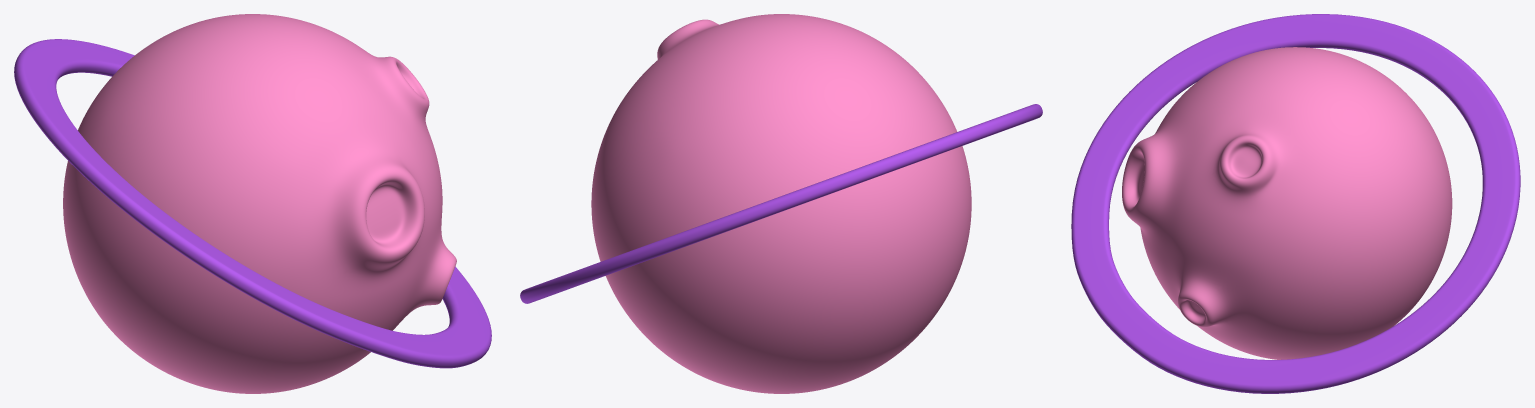
File: planet-5.glb
3 renders of one model, left to right at view 1: azimuth 30°, elevation 25°; view 2: azimuth 150°, elevation 25°; view 3: azimuth 270°, elevation 25°, orthographic. The views are drawn at different scales.
Parts seen in each view (by area): view 1: Roundcube, Roundcube.001; view 2: Roundcube, Roundcube.001; view 3: Roundcube, Roundcube.001.
Boxes of the visible parts, x1=… form: Roundcube: x1=63, y1=14, x2=456, y2=393; Roundcube.001: x1=14, y1=39, x2=491, y2=368; Roundcube: x1=591, y1=14, x2=971, y2=393; Roundcube.001: x1=520, y1=104, x2=1042, y2=303; Roundcube: x1=1122, y1=47, x2=1452, y2=359; Roundcube.001: x1=1071, y1=14, x2=1520, y2=393.
Bounding box in the file's own units: 2.77 × 2.18 × 3.11.
